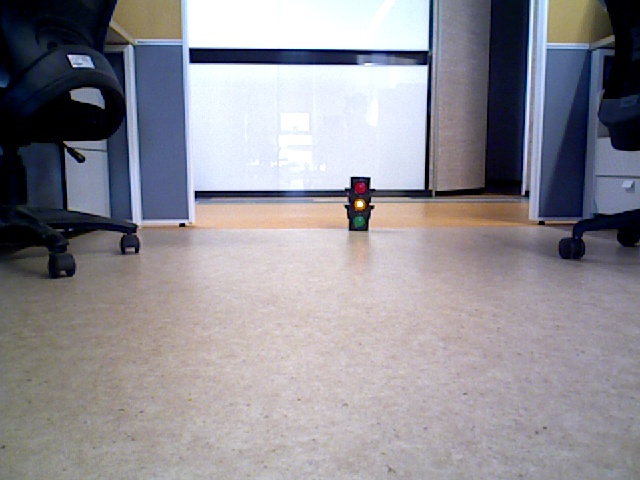yellow: (351, 178, 367, 227)
